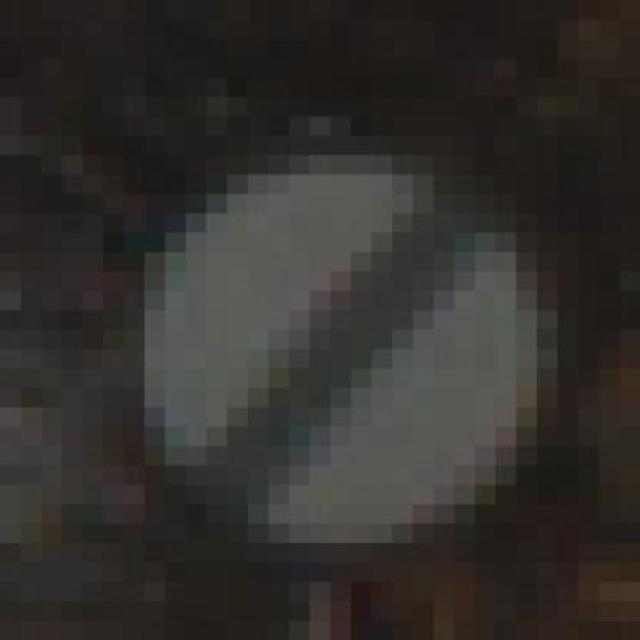End of all speed and passing limits: (61, 135, 578, 563)
